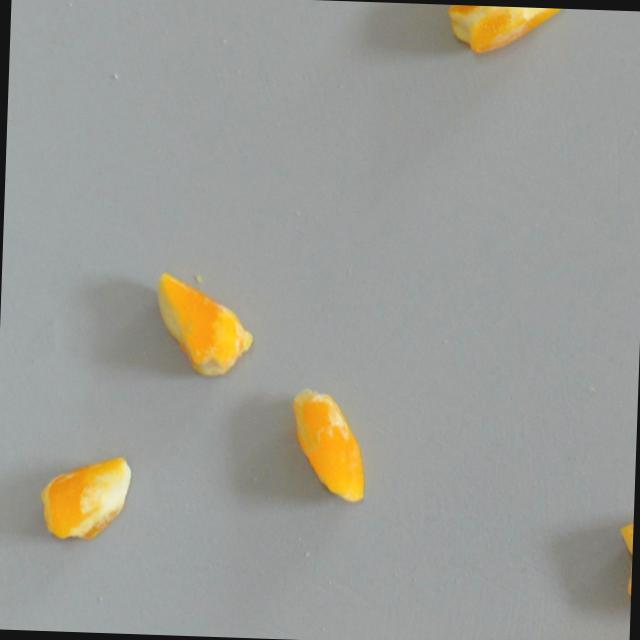pelicula: (150, 271, 248, 385), (277, 396, 382, 496), (31, 448, 136, 542), (452, 4, 548, 74), (609, 499, 634, 611)
